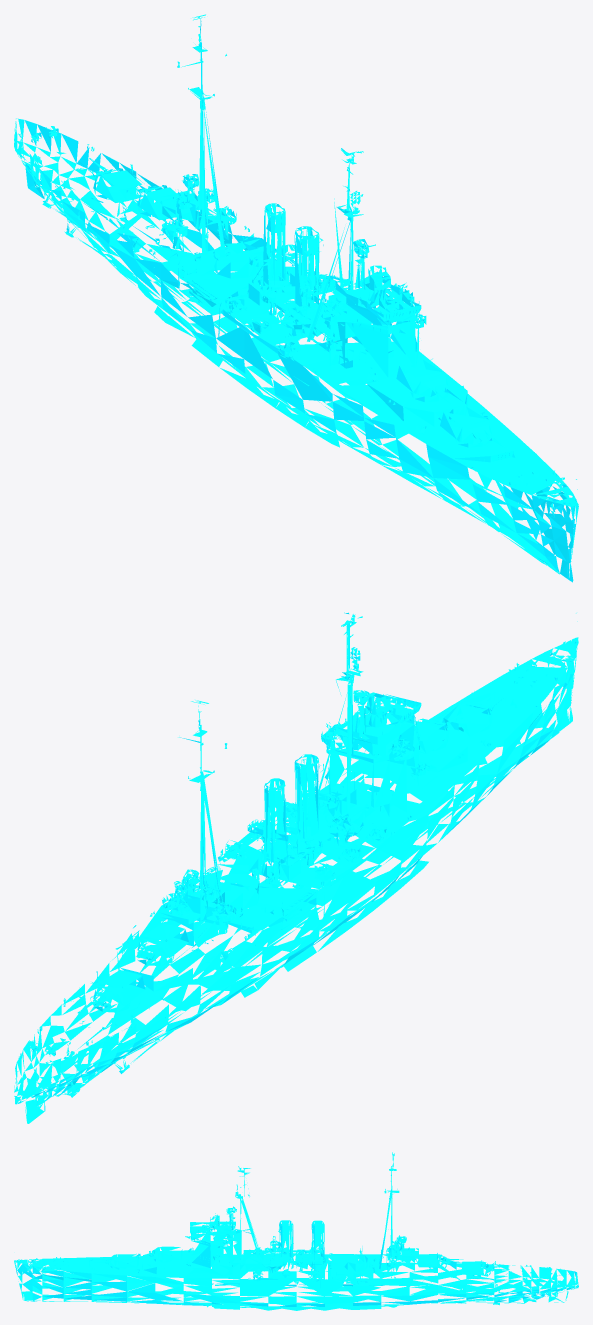
File: Surrey.glb
The picture shows the model from 3 angles, top to bottom: view 1: azimuth 30°, elevation 25°; view 2: azimuth 150°, elevation 25°; view 3: azimuth 270°, elevation 25°; orthographic projection. The views are drawn at different scales.
Bounding box in the file's own units: 1.43 × 3.55 × 12.19.
